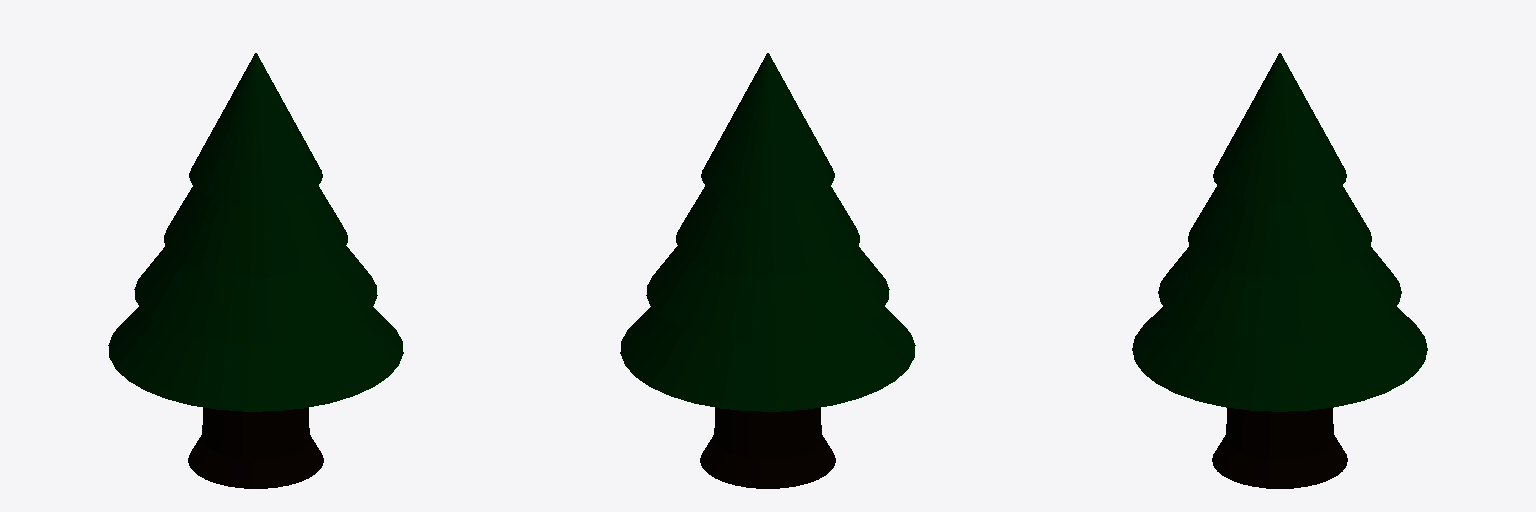
The model's file is ConeTree.obj.
3 views of the same model, side by side, from view 1: azimuth 30°, elevation 25°; view 2: azimuth 150°, elevation 25°; view 3: azimuth 270°, elevation 25° (orthographic).
Visible parts, largest first — view 1: Leaves, Trunk; view 2: Leaves, Trunk; view 3: Leaves, Trunk.
Boxes of the visible parts, box(x1,y1,x2,y2) form: Leaves: box(108, 53, 403, 411); Trunk: box(188, 407, 323, 488); Leaves: box(620, 53, 915, 411); Trunk: box(700, 407, 835, 488); Leaves: box(1132, 53, 1427, 411); Trunk: box(1212, 408, 1347, 488).
Bounding box in the file's own units: 3.5 × 5.33 × 3.5.